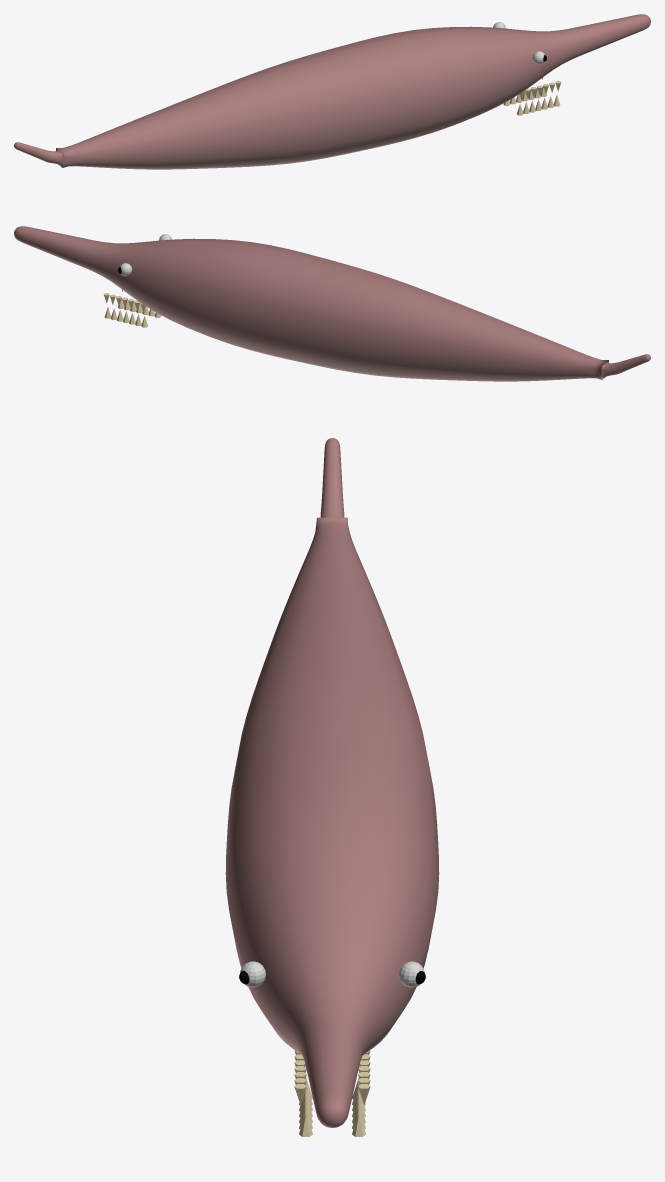
Rendered from tubarao_duende.glb.
The picture shows the model from 3 angles, top to bottom: view 1: azimuth 30°, elevation 25°; view 2: azimuth 150°, elevation 25°; view 3: azimuth 270°, elevation 25°; orthographic projection. The views are drawn at different scales.
Visible parts, largest first — view 1: corpo; view 2: corpo; view 3: corpo.
Boxes of the visible parts, bbox=[...] form: corpo: bbox=[14, 14, 650, 169]; corpo: bbox=[14, 226, 650, 381]; corpo: bbox=[225, 438, 439, 1136].
Bounding box in the file's own units: 5.54 × 1.39 × 1.49.
